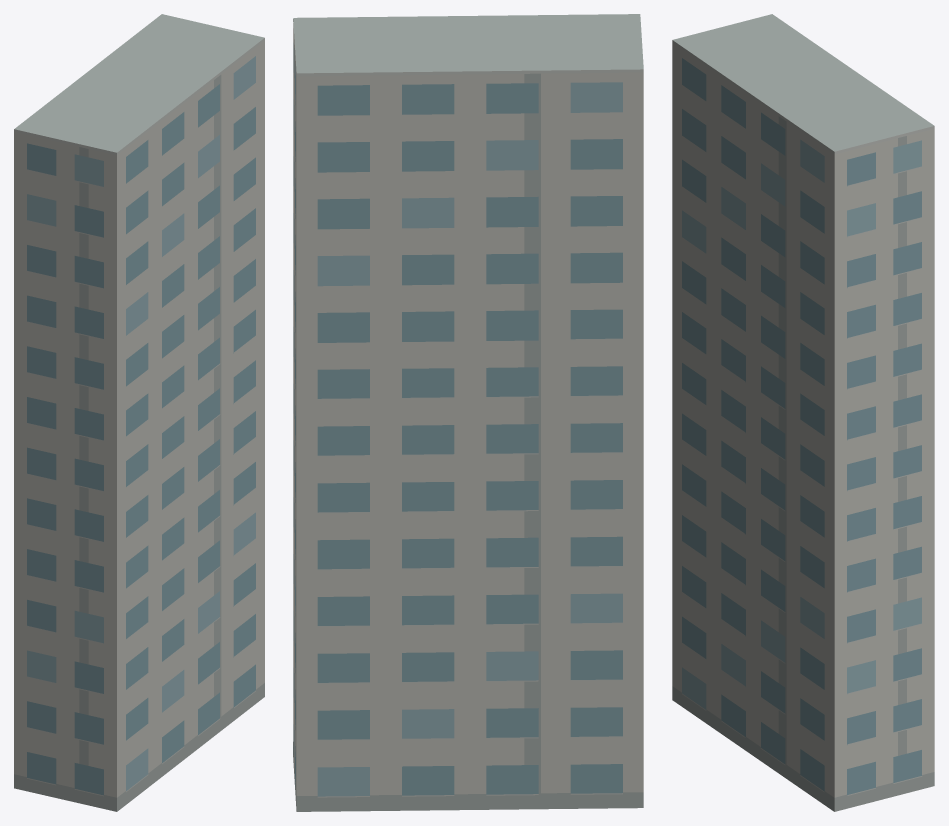
The model's file is residential-02ee78e7-f696-4a50-a9e6-73b17436ad47.glb.
3 views of the same model, side by side, from view 1: azimuth 30°, elevation 25°; view 2: azimuth 150°, elevation 25°; view 3: azimuth 270°, elevation 25° (orthographic). The views are drawn at different scales.
Parts seen in each view (by area): view 1: residential-02ee78e7-f696-4a50-a9e6-73b17436ad47.tmp; view 2: residential-02ee78e7-f696-4a50-a9e6-73b17436ad47.tmp; view 3: residential-02ee78e7-f696-4a50-a9e6-73b17436ad47.tmp.
Part boxes in pixels (x1,y1,x2,y2): residential-02ee78e7-f696-4a50-a9e6-73b17436ad47.tmp: (14, 14, 264, 811); residential-02ee78e7-f696-4a50-a9e6-73b17436ad47.tmp: (293, 14, 643, 811); residential-02ee78e7-f696-4a50-a9e6-73b17436ad47.tmp: (672, 14, 934, 811).
Size of the model in its own units: 25.96 by 58 by 20.89.
